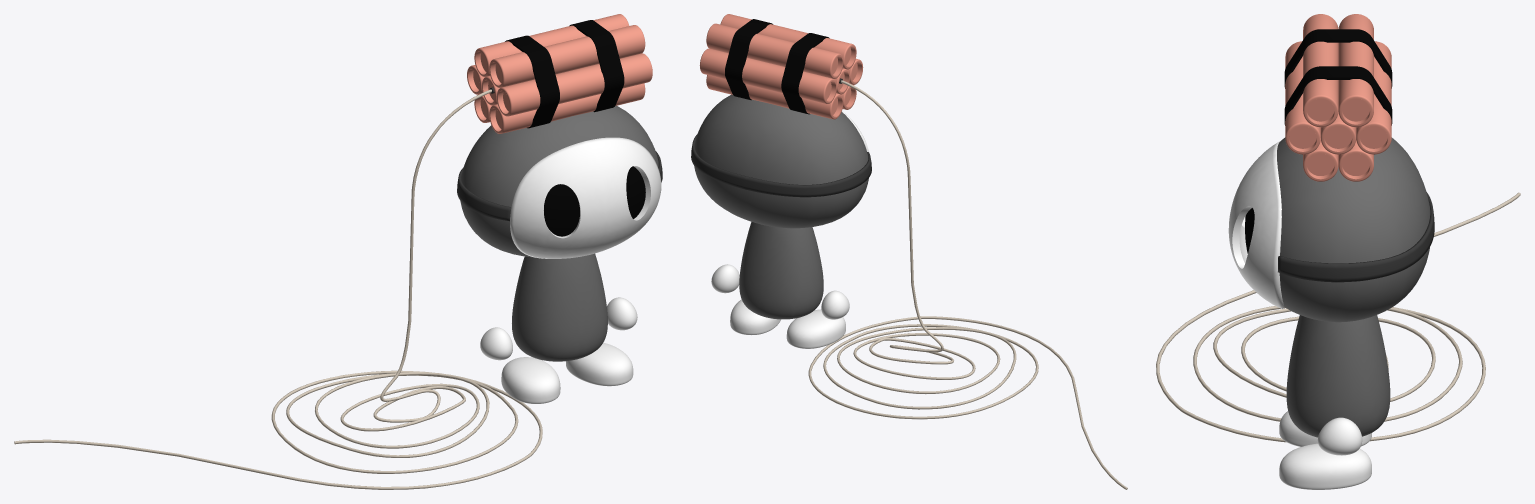
File: gandalf.gltf
3 views of the same model, side by side, from view 1: azimuth 30°, elevation 25°; view 2: azimuth 150°, elevation 25°; view 3: azimuth 270°, elevation 25° (orthographic). The views are drawn at different scales.
Parts seen in each view (by area): view 1: \uac00\uba74, Sweep.001, \uc5bc\uad74, \ubab8\ud1b5, Boolean, Boolean.2, Boolean.4, \ub208, \ubc1c R, \ubc1c L, Boolean.6, Boolean.3 (+3 smaller); view 2: \uc5bc\uad74, Sweep.001, \ubab8\ud1b5, Boolean, Boolean.1, Boolean.3, \ub048, \ubc1c R, Boolean.5, Boolean.4, \ubc1c L, \uc190 L (+1 smaller); view 3: \uc5bc\uad74, \ubab8\ud1b5, Sweep.001, \uac00\uba74, \ubc1c L, Boolean, \ub048, Boolean.4, Boolean.3, Boolean.1, Boolean.2, \uc190 L (+4 smaller).
Part boxes in pixels (x1=…): \uac00\uba74: x1=510, y1=137, x2=661, y2=258; Sweep.001: x1=14, y1=89, x2=542, y2=489; \uc5bc\uad74: x1=460, y1=105, x2=658, y2=257; \ubab8\ud1b5: x1=512, y1=253, x2=607, y2=361; Boolean: x1=505, y1=20, x2=624, y2=128; Boolean.2: x1=496, y1=53, x2=652, y2=116; Boolean.4: x1=489, y1=25, x2=645, y2=87; \ub208: x1=544, y1=166, x2=645, y2=236; \ubc1c R: x1=501, y1=357, x2=560, y2=403; \ubc1c L: x1=566, y1=342, x2=633, y2=386; Boolean.6: x1=489, y1=83, x2=645, y2=133; Boolean.3: x1=474, y1=14, x2=629, y2=76; \uc5bc\uad74: x1=694, y1=94, x2=868, y2=228; Sweep.001: x1=808, y1=80, x2=1127, y2=489; \ubab8\ud1b5: x1=739, y1=222, x2=823, y2=319; Boolean: x1=725, y1=19, x2=829, y2=114; Boolean.1: x1=699, y1=48, x2=836, y2=103; Boolean.3: x1=706, y1=23, x2=843, y2=78; \ub048: x1=691, y1=134, x2=871, y2=197; \ubc1c R: x1=786, y1=309, x2=845, y2=348; Boolean.5: x1=706, y1=75, x2=843, y2=119; Boolean.4: x1=720, y1=14, x2=856, y2=69; \ubc1c L: x1=730, y1=299, x2=780, y2=335; \uc190 L: x1=711, y1=264, x2=739, y2=293; \uc5bc\uad74: x1=1277, y1=137, x2=1430, y2=322; \ubab8\ud1b5: x1=1286, y1=315, x2=1390, y2=437; Sweep.001: x1=1156, y1=192, x2=1520, y2=442; \uac00\uba74: x1=1228, y1=141, x2=1284, y2=308; \ubc1c L: x1=1279, y1=443, x2=1371, y2=489; Boolean: x1=1284, y1=29, x2=1392, y2=125; \ub048: x1=1278, y1=192, x2=1434, y2=282; Boolean.4: x1=1303, y1=14, x2=1338, y2=127; Boolean.3: x1=1338, y1=14, x2=1373, y2=127; Boolean.1: x1=1356, y1=41, x2=1391, y2=154; Boolean.2: x1=1285, y1=41, x2=1320, y2=154; \uc190 L: x1=1317, y1=417, x2=1362, y2=455.
Bounding box in the file's own units: 1.74 × 1.04 × 0.8239.
